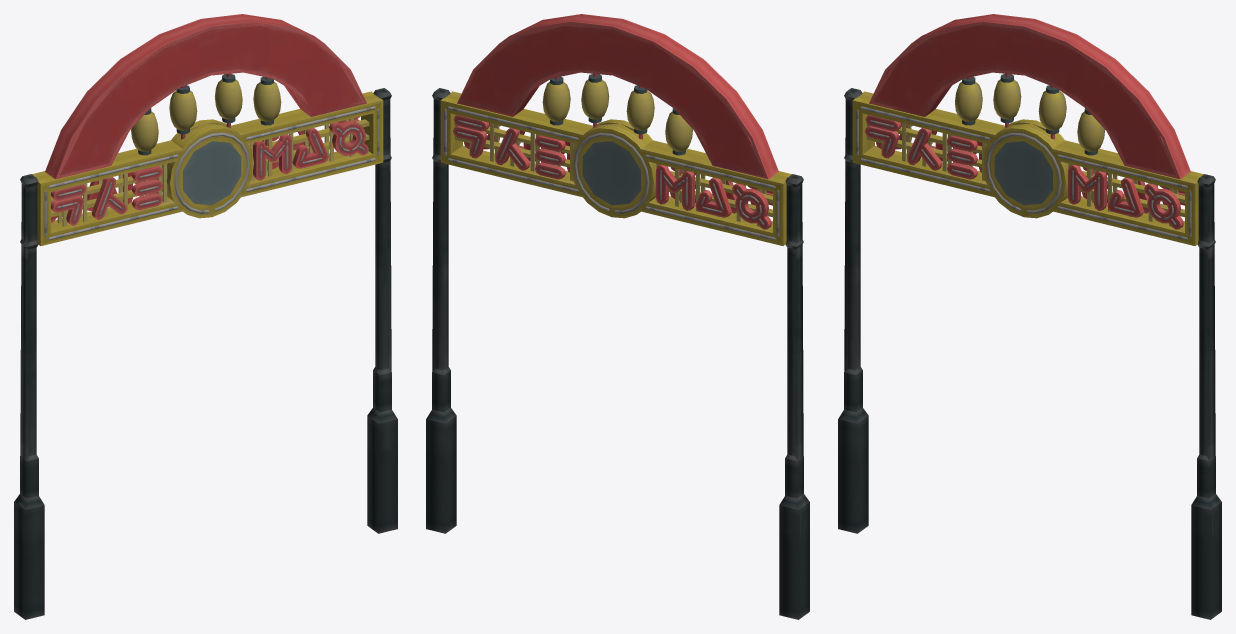
File: objects_un_t06streetsign01.gltf
3 views of the same model, side by side, from view 1: azimuth 30°, elevation 25°; view 2: azimuth 150°, elevation 25°; view 3: azimuth 330°, elevation 25° (orthographic).
Parts seen in each view (by area): view 1: um_objects_un_t06streetsign01_model_lod0Shape:objects_un_t06, um_objects_un_t06streetsign01_model_lod1Shape:objects_un_t06, um_objects_un_t06streetsign01_model_lod2Shape:objects_un_t06, nomerge_lightbuble1_shape:objects_un_t06streetsign01_neon; view 2: um_objects_un_t06streetsign01_model_lod0Shape:objects_un_t06, um_objects_un_t06streetsign01_model_lod1Shape:objects_un_t06, um_objects_un_t06streetsign01_model_lod2Shape:objects_un_t06, nomerge_lightbuble1_shape:objects_un_t06streetsign01_neon; view 3: um_objects_un_t06streetsign01_model_lod0Shape:objects_un_t06, um_objects_un_t06streetsign01_model_lod1Shape:objects_un_t06, um_objects_un_t06streetsign01_model_lod2Shape:objects_un_t06, nomerge_lightbuble1_shape:objects_un_t06streetsign01_neon.
Part boxes in pixels (left/top/right/bottom): um_objects_un_t06streetsign01_model_lod0Shape:objects_un_t06: left=14, top=14, right=397, bottom=619; um_objects_un_t06streetsign01_model_lod1Shape:objects_un_t06: left=20, top=23, right=391, bottom=460; um_objects_un_t06streetsign01_model_lod2Shape:objects_un_t06: left=36, top=23, right=378, bottom=245; nomerge_lightbuble1_shape:objects_un_t06streetsign01_neon: left=44, top=79, right=379, bottom=239; um_objects_un_t06streetsign01_model_lod0Shape:objects_un_t06: left=426, top=14, right=809, bottom=619; um_objects_un_t06streetsign01_model_lod1Shape:objects_un_t06: left=432, top=23, right=803, bottom=460; um_objects_un_t06streetsign01_model_lod2Shape:objects_un_t06: left=440, top=23, right=788, bottom=245; nomerge_lightbuble1_shape:objects_un_t06streetsign01_neon: left=444, top=79, right=779, bottom=240; um_objects_un_t06streetsign01_model_lod0Shape:objects_un_t06: left=838, top=14, right=1221, bottom=619; um_objects_un_t06streetsign01_model_lod1Shape:objects_un_t06: left=844, top=25, right=1215, bottom=460; um_objects_un_t06streetsign01_model_lod2Shape:objects_un_t06: left=852, top=24, right=1199, bottom=245; nomerge_lightbuble1_shape:objects_un_t06streetsign01_neon: left=856, top=79, right=1191, bottom=240.
Size of what is drawn, in the model's own units: 5.31 by 7.47 by 0.3579.
Materials: 2 (2 with a texture image).
